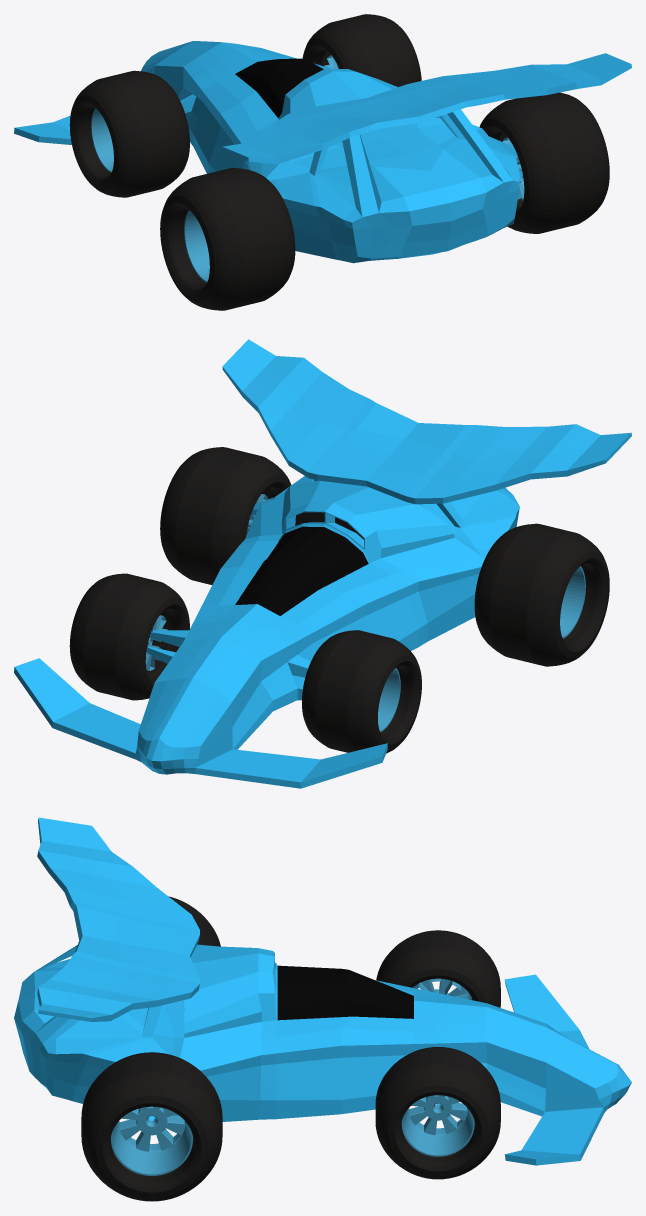
Rendered from racingCar.fbx.
3 views of the same model, one above another, from view 1: azimuth 30°, elevation 25°; view 2: azimuth 150°, elevation 25°; view 3: azimuth 270°, elevation 25° (orthographic). The views are drawn at different scales.
Parts seen in each view (by area): view 1: body, rear_left_wheel, rear_right_wheel, front_left_wheel, front_right_wheel; view 2: body, rear_left_wheel, front_left_wheel, rear_right_wheel, front_right_wheel; view 3: body, rear_right_wheel, front_right_wheel, front_left_wheel, rear_left_wheel.
Boxes of the visible parts, x1,y1,x2,y2 form: body: (14, 41, 631, 263); rear_left_wheel: (160, 168, 295, 310); rear_right_wheel: (479, 92, 609, 233); front_left_wheel: (69, 70, 189, 197); front_right_wheel: (302, 14, 421, 86); body: (14, 339, 631, 788); rear_left_wheel: (474, 523, 609, 666); front_left_wheel: (302, 630, 421, 753); rear_right_wheel: (160, 447, 291, 584); front_right_wheel: (69, 573, 189, 700); body: (14, 817, 631, 1165); rear_right_wheel: (81, 1052, 222, 1201); front_right_wheel: (375, 1047, 500, 1179); front_left_wheel: (376, 930, 500, 1007); rear_left_wheel: (168, 896, 220, 946).
Size of the model in its own units: 426 by 151 by 326.
